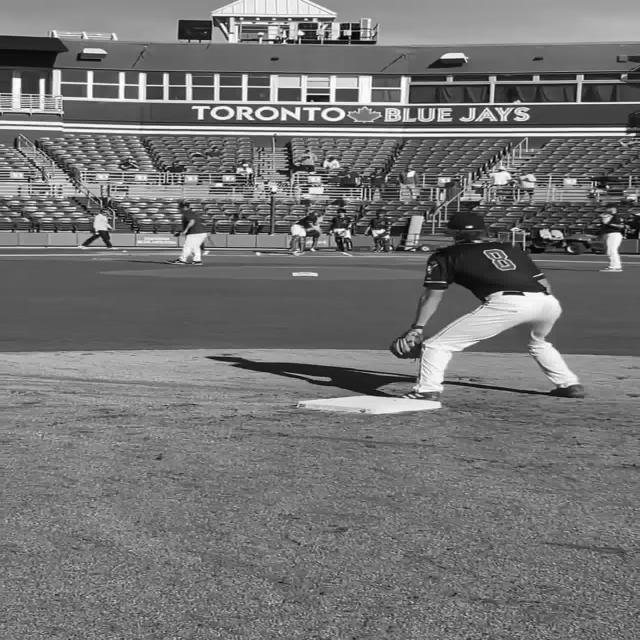base: (296, 395, 448, 413)
baseball_glove: (388, 327, 424, 359)
shoe: (395, 389, 441, 402), (550, 383, 584, 398), (166, 258, 186, 264), (599, 268, 623, 272), (191, 261, 203, 265), (77, 245, 87, 249)
